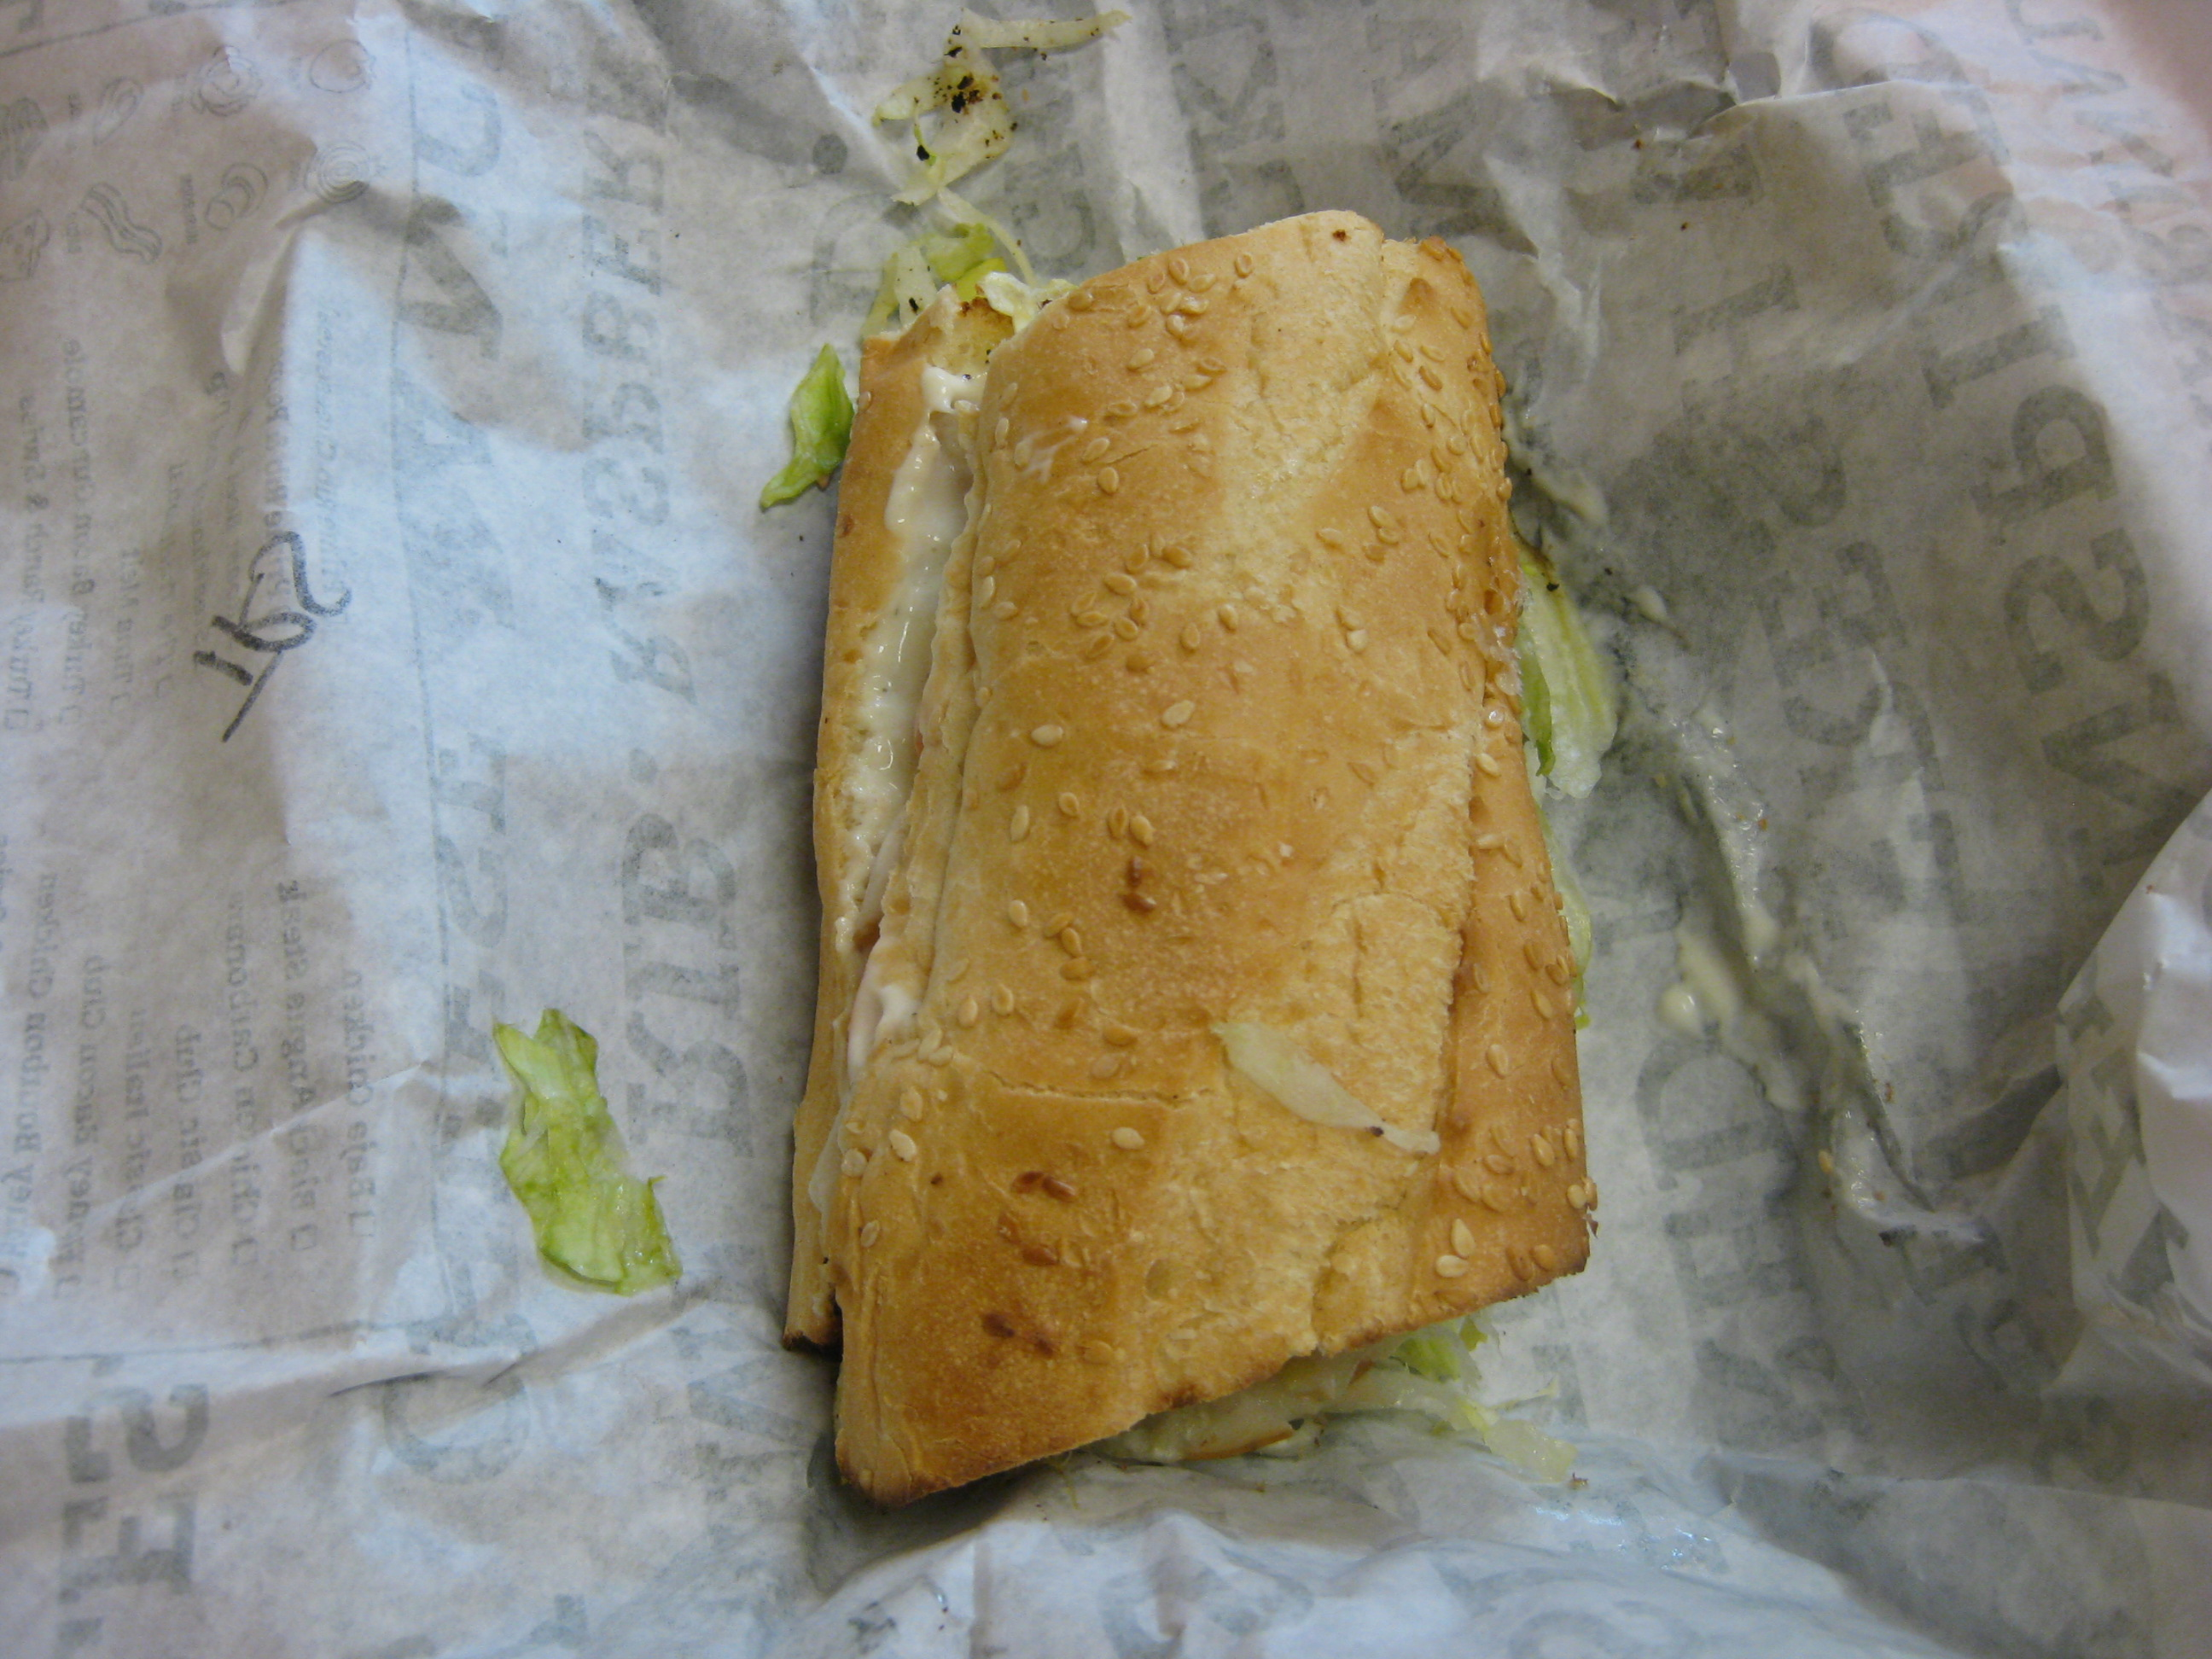sub: (774, 215, 1717, 1478)
